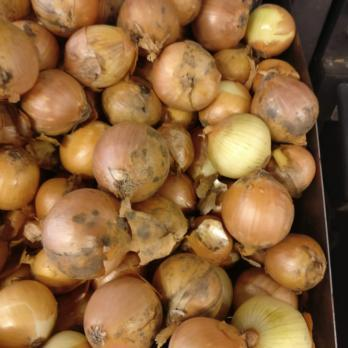Onion: (0, 1, 296, 348)
